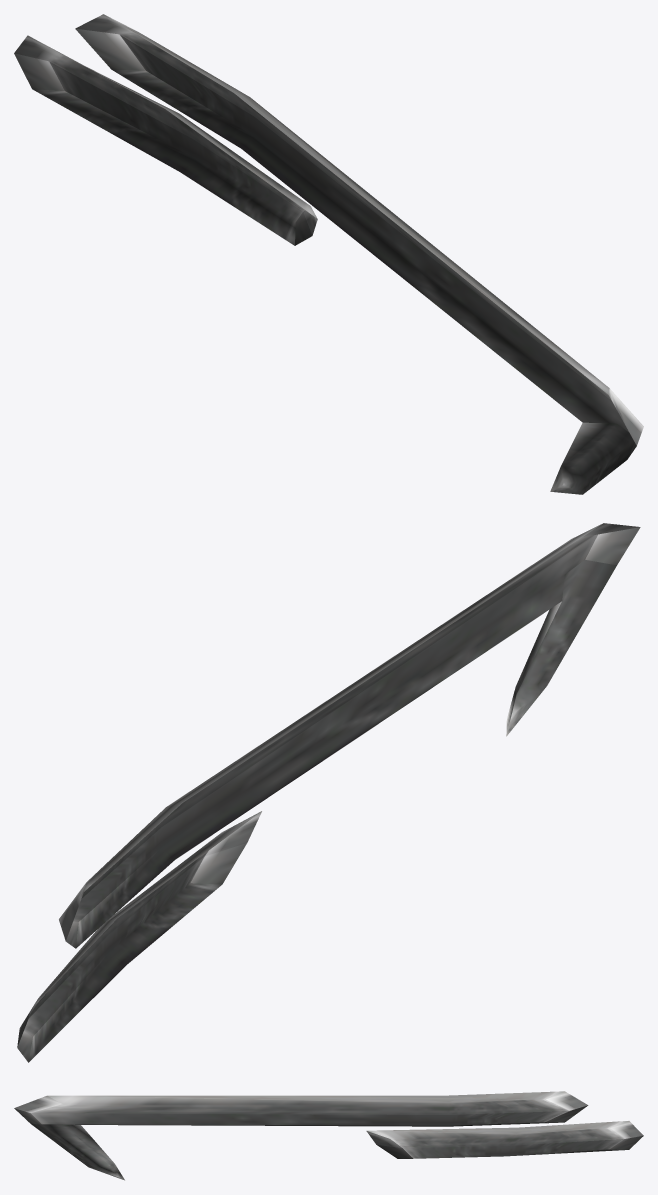
3 views of the same model, one above another, from view 1: azimuth 30°, elevation 25°; view 2: azimuth 150°, elevation 25°; view 3: azimuth 270°, elevation 25° (orthographic). The views are drawn at different scales.
Visible parts, largest first — view 1: wg_r_lr_br1; view 2: wg_r_lr_br1; view 3: wg_r_lr_br1.
Boxes of the visible parts, left/top/right/bottom form: wg_r_lr_br1: left=14, top=14, right=643, bottom=494; wg_r_lr_br1: left=17, top=523, right=640, bottom=1062; wg_r_lr_br1: left=14, top=1091, right=643, bottom=1180.
Bounding box in the file's own units: 0.0848 × 0.2375 × 1.59.
1 material, 1 textured.
